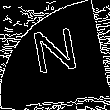N_S: (27, 26, 83, 84)
